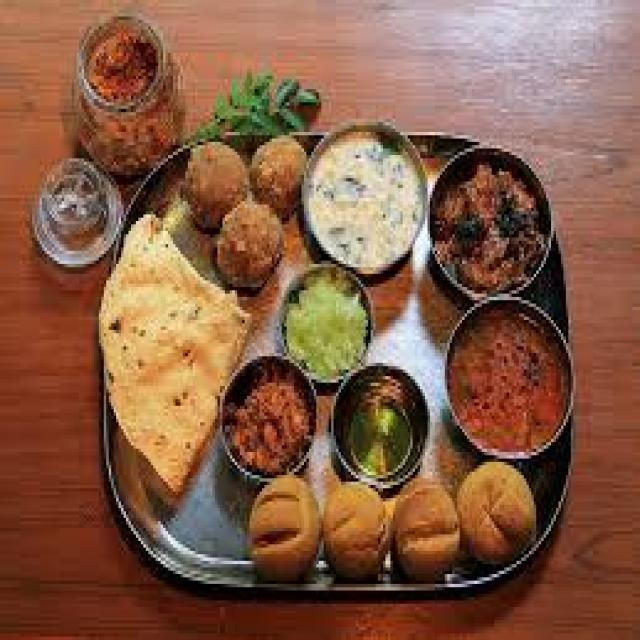curd: (298, 123, 433, 277)
dal: (276, 265, 378, 385)
papad: (97, 238, 252, 464)
pickle: (30, 154, 122, 268), (83, 23, 169, 116)
roti: (101, 248, 243, 456)
sweet: (443, 304, 572, 454)
veg-fry: (438, 299, 574, 463), (425, 157, 553, 302)
